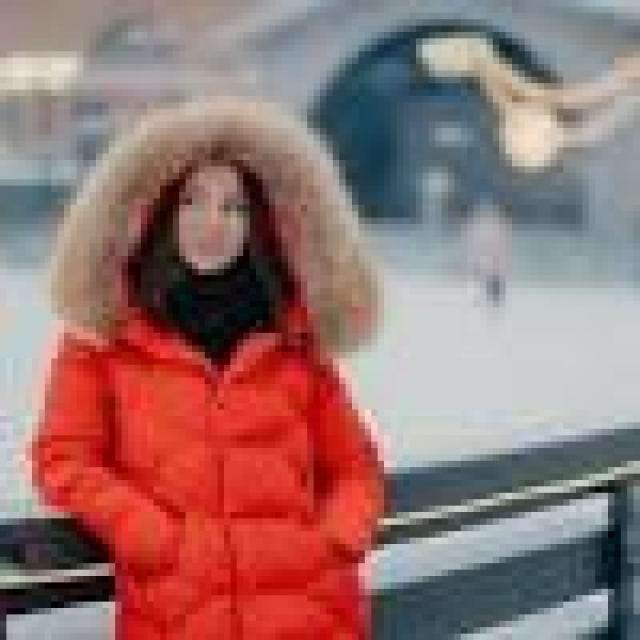Jacket: (26, 294, 410, 640)
